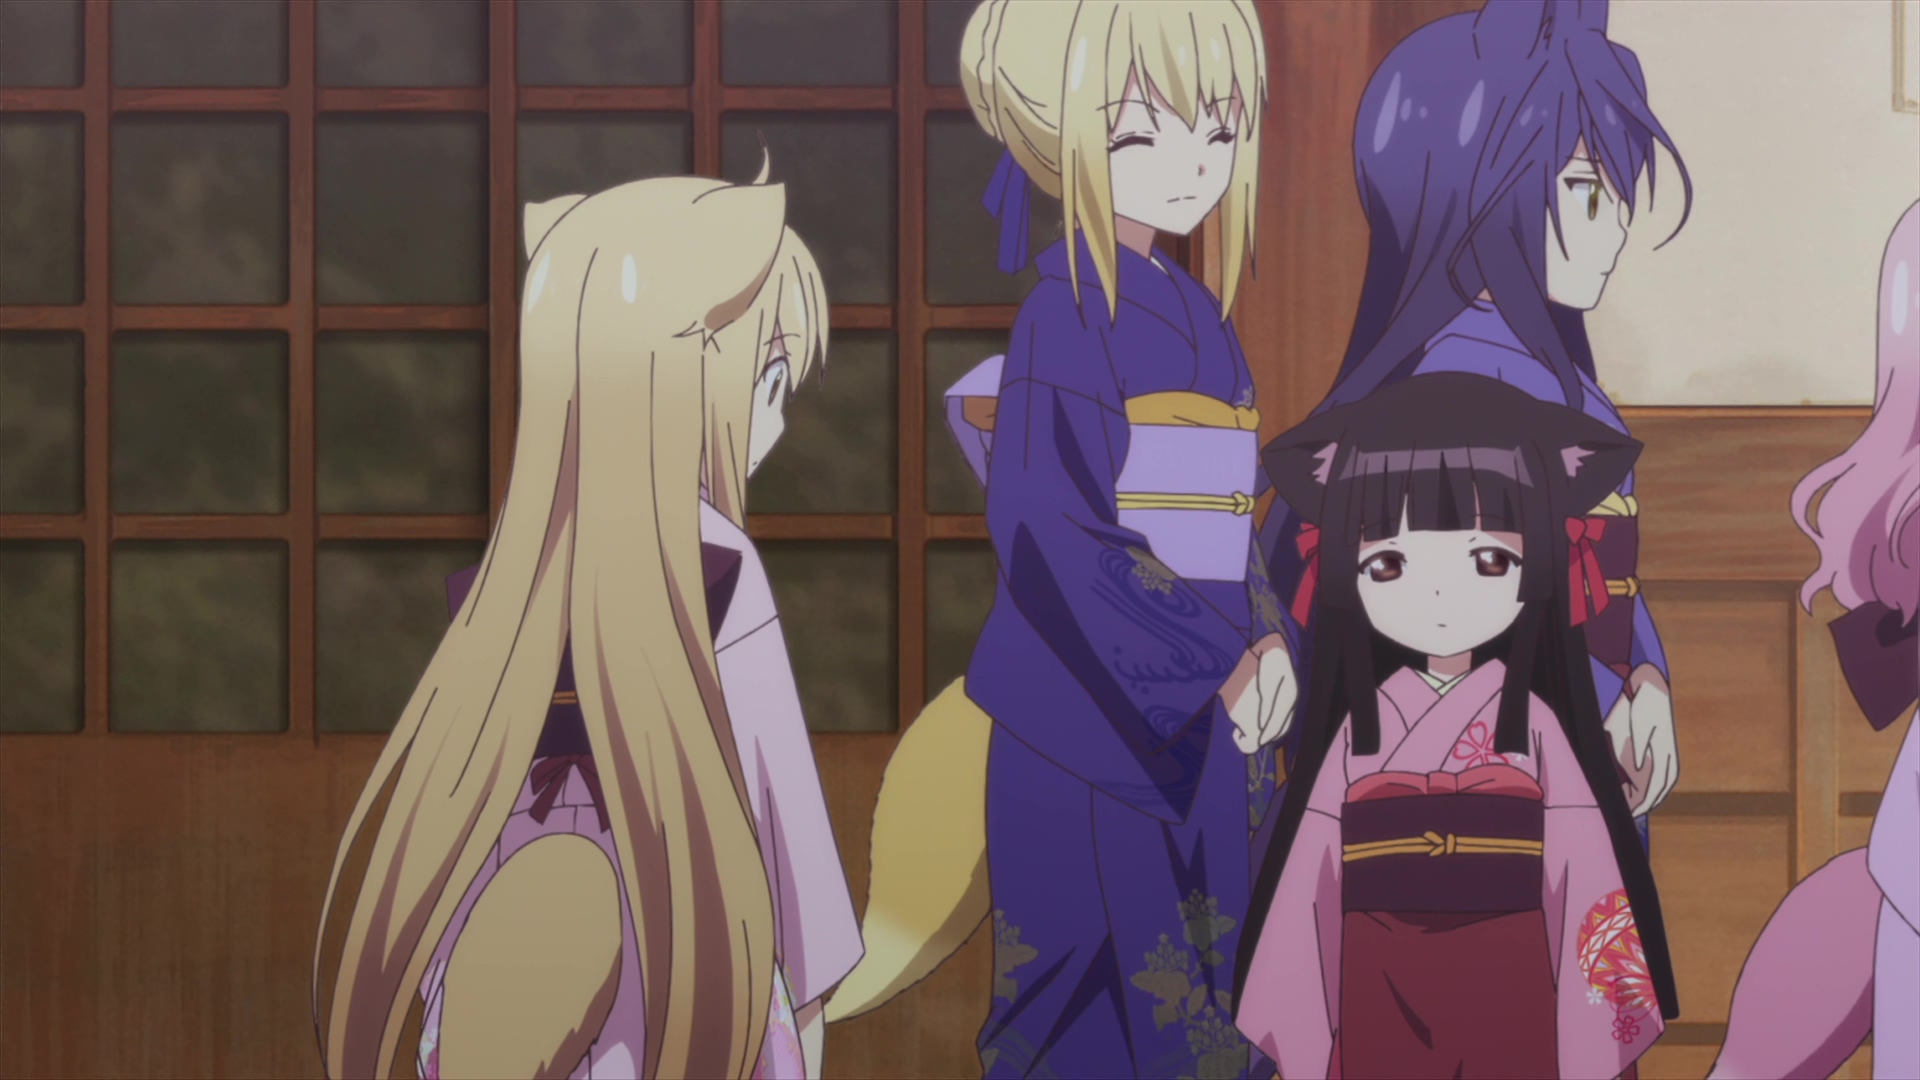柚: (311, 138, 866, 1080)
桐: (822, 1, 1300, 1080)
樱: (1233, 371, 1663, 1080)
皋: (1255, 1, 1693, 820)
莲: (1706, 195, 1920, 1080)
